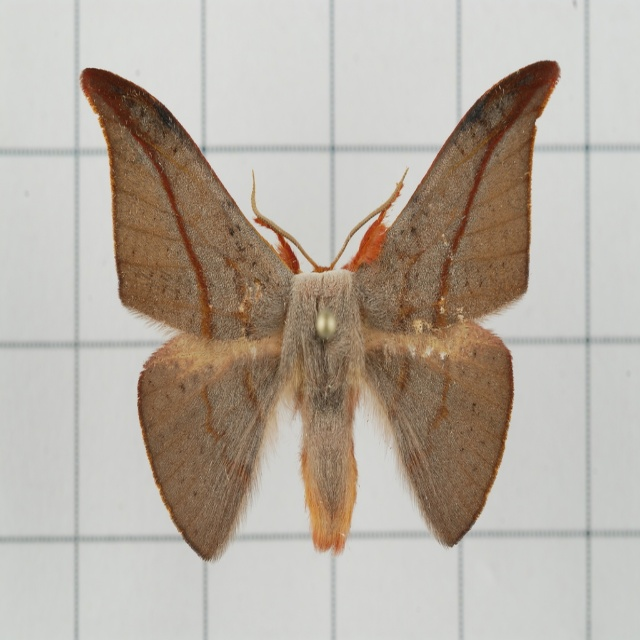Butterfly: (115, 70, 526, 594)
